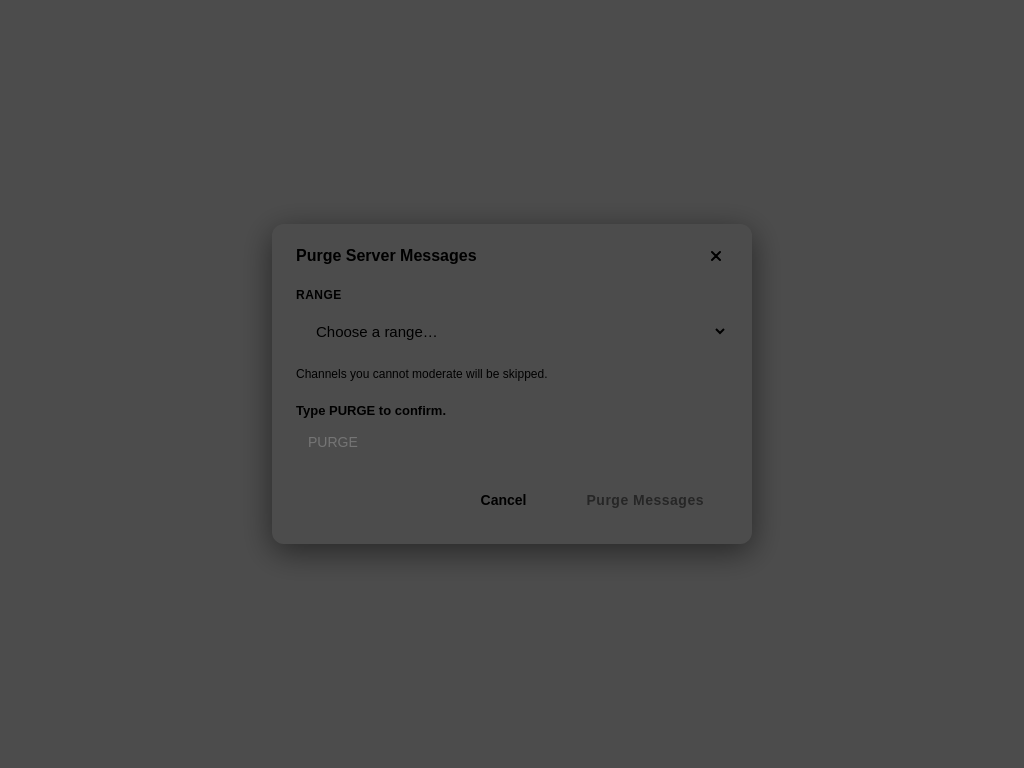
Test case: ManageOwn-only self-scope copy › acknowledges the moderated-channel subset in server context
Select "Last 7 days" in the dropdown labelled "Range" at [512, 332], box [296,310,728,353]
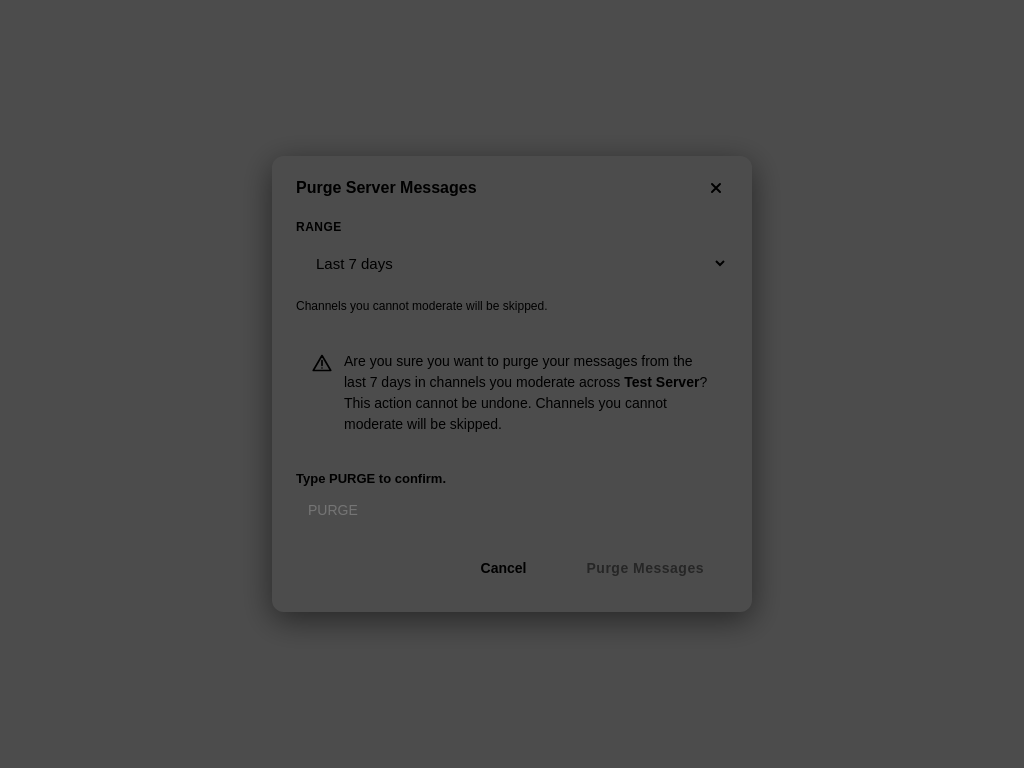
Expected: the text "in channels you moderate" is shown, [344,353,693,390]
